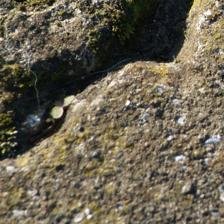Crack: (4, 2, 195, 163)
